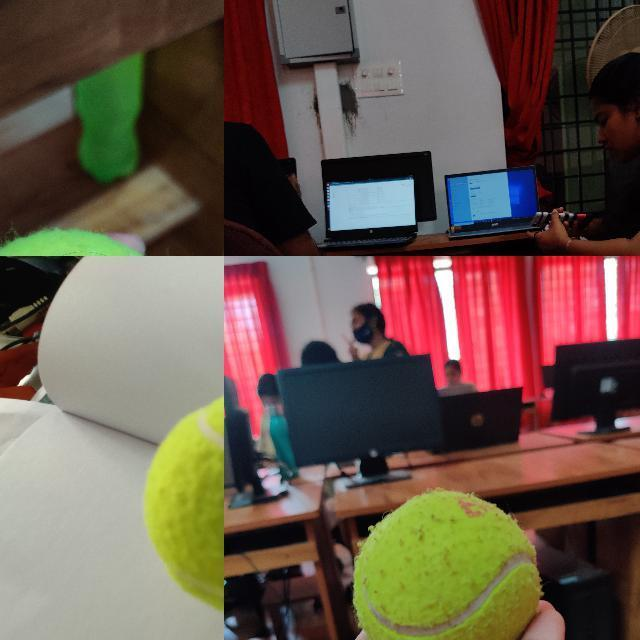tennis-ball: (352, 489, 540, 639), (141, 388, 223, 621)
